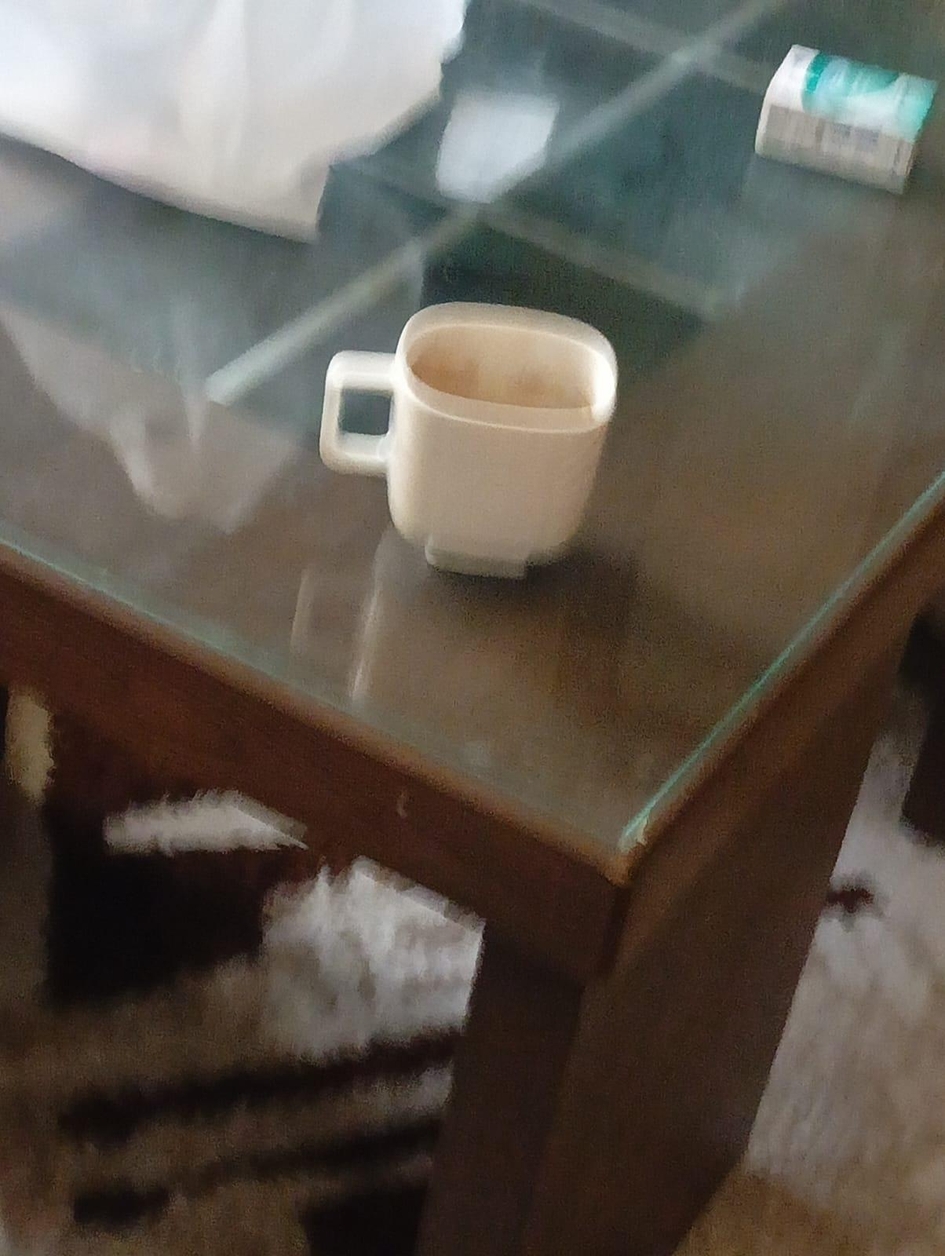cup: (319, 303, 618, 576), (395, 303, 620, 451)
